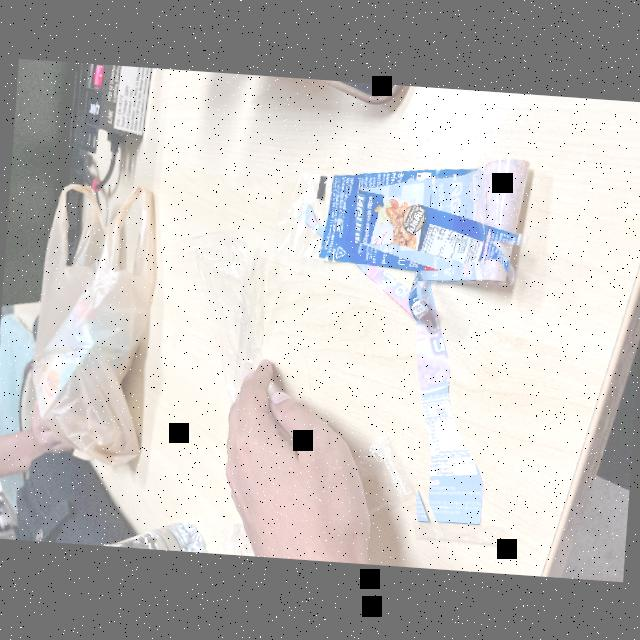scrap_plastic: (262, 131, 586, 339), (169, 201, 288, 446)
